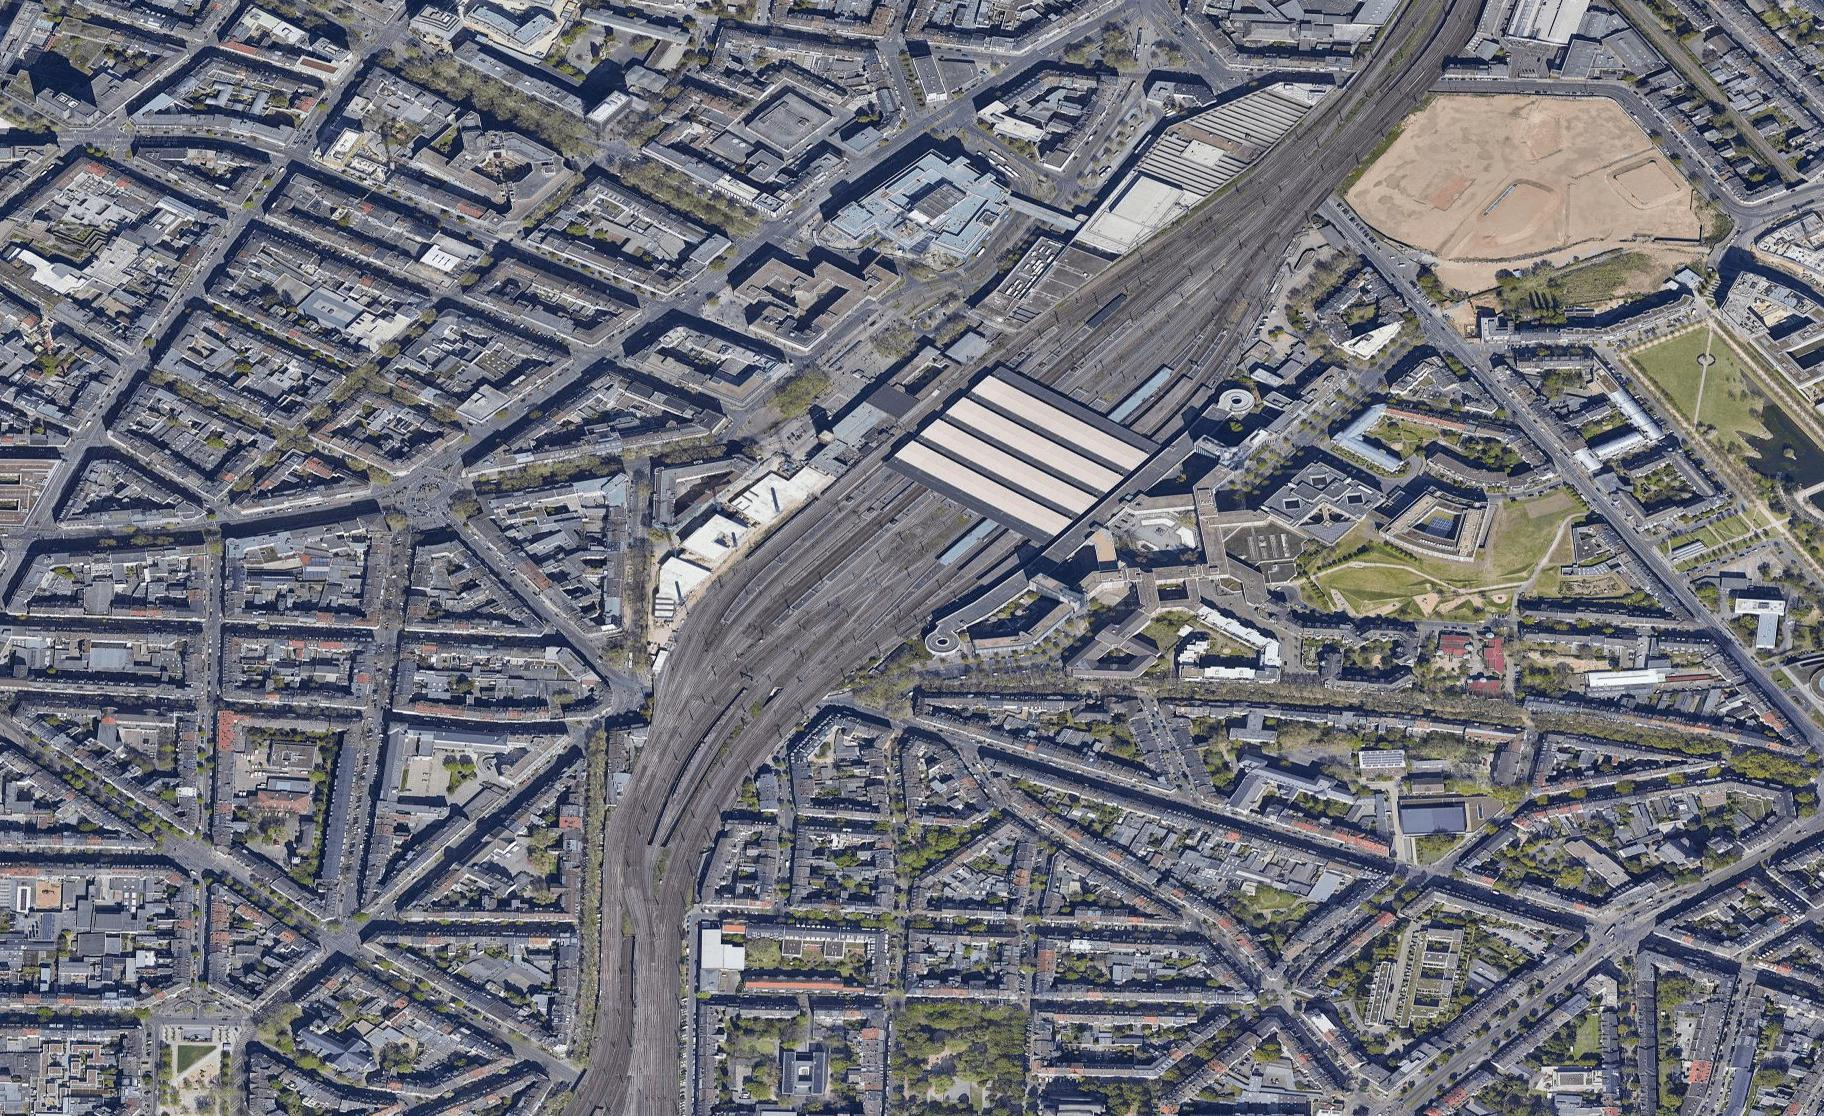train_station: (846, 335, 1179, 587)
